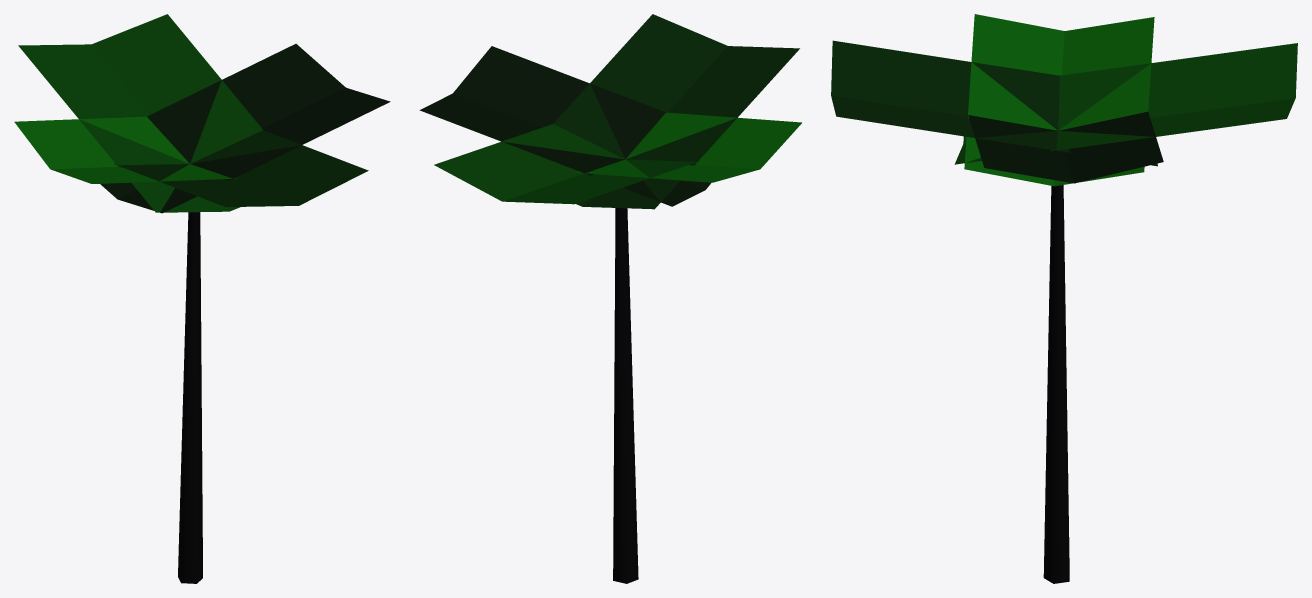
3 renders of one model, left to right at view 1: azimuth 30°, elevation 25°; view 2: azimuth 150°, elevation 25°; view 3: azimuth 270°, elevation 25°, orthographic. The views are drawn at different scales.
Visible parts, largest first — view 1: IL3DN_Plant_Flower_02_LOD0; view 2: IL3DN_Plant_Flower_02_LOD0; view 3: IL3DN_Plant_Flower_02_LOD0.
Boxes of the visible parts, left/top/right/bottom form: IL3DN_Plant_Flower_02_LOD0: left=14, top=14, right=390, bottom=583; IL3DN_Plant_Flower_02_LOD0: left=419, top=14, right=801, bottom=583; IL3DN_Plant_Flower_02_LOD0: left=831, top=14, right=1297, bottom=583.
Size of what is drawn, in the model's own units: 65.66 by 96.55 by 81.18.
